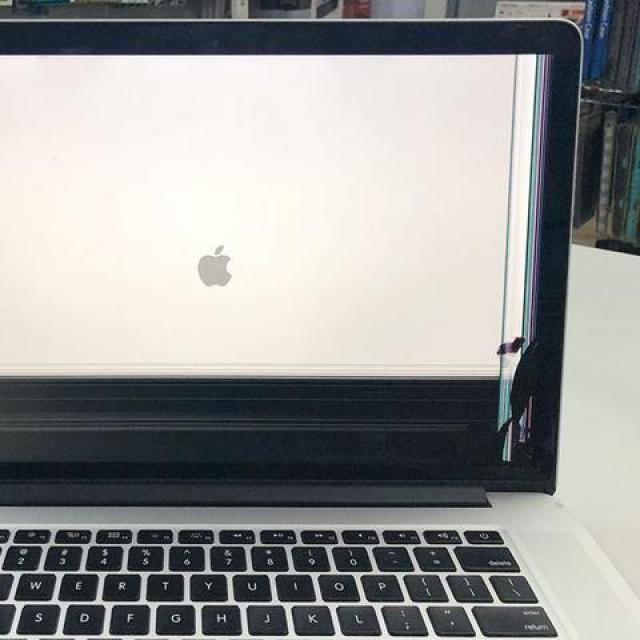Screen cracks: (497, 50, 556, 462)
